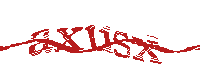a: (29, 28, 51, 56)
s: (113, 29, 132, 60)
u: (87, 23, 113, 53)
x: (132, 34, 164, 66), (56, 25, 86, 54)
